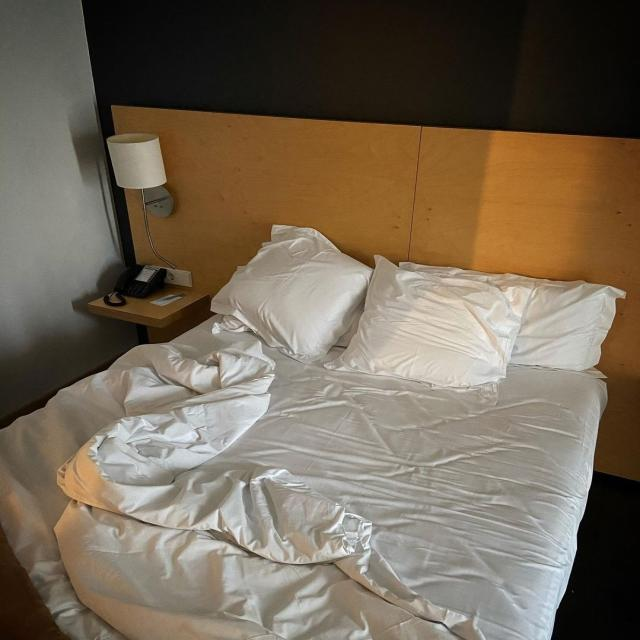bed: (0, 227, 620, 640)
